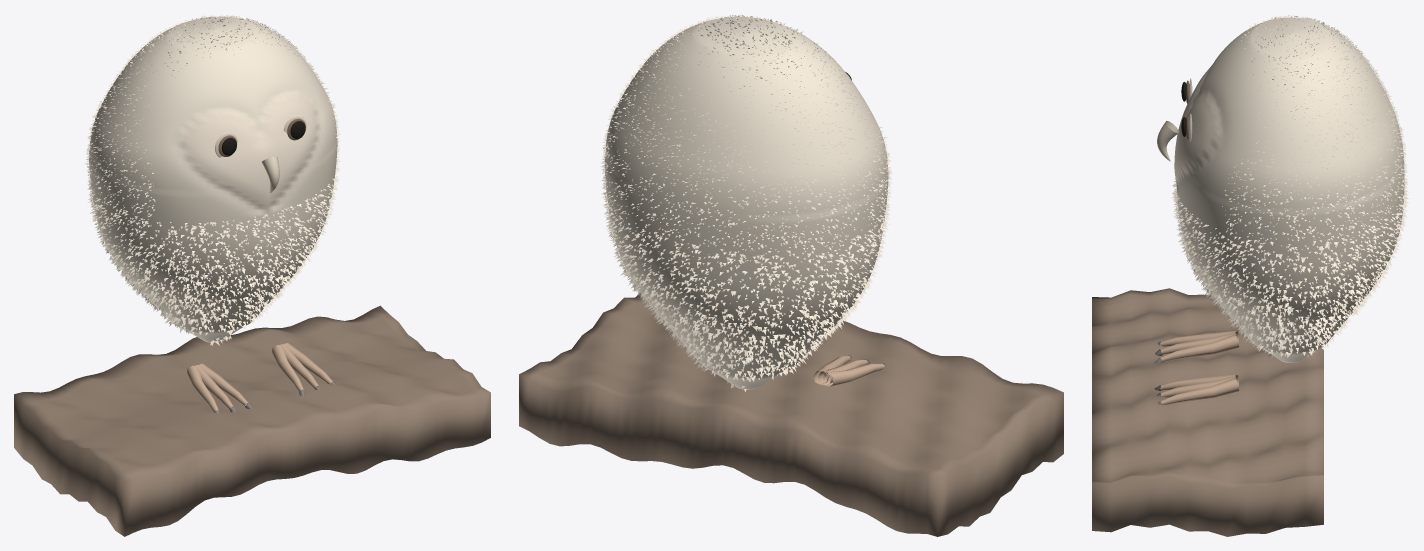
File: owl172_run82_organic_integrated_face_ART_PENDING.glb
3 renders of one model, left to right at view 1: azimuth 30°, elevation 25°; view 2: azimuth 150°, elevation 25°; view 3: azimuth 270°, elevation 25°, orthographic. The views are drawn at different scales.
Parts seen in each view (by area): view 1: solid eroded mature eucalyptus hollow ledge, one continuous organic juvenile loft, curved second-down filament batch 1, curved second-down filament batch 4, curved second-down filament batch 0, curved second-down filament batch 3, curved second-down filament batch 2; view 2: one continuous organic juvenile loft, solid eroded mature eucalyptus hollow ledge, curved second-down filament batch 3, curved second-down filament batch 1, curved second-down filament batch 4, curved second-down filament batch 0, curved second-down filament batch 2, short juvenile toe -1_0; view 3: one continuous organic juvenile loft, solid eroded mature eucalyptus hollow ledge, curved second-down filament batch 2, curved second-down filament batch 1, curved second-down filament batch 0, curved second-down filament batch 3, curved second-down filament batch 4, short juvenile toe -1_2, short juvenile toe 1_2, short juvenile toe 1_0, curved ivory hooked beak, short juvenile toe -1_0 (+2 smaller).
Part boxes in pixels (x1,y1,x2,y2): solid eroded mature eucalyptus hollow ledge: [14, 305, 490, 536]; one continuous organic juvenile loft: [89, 16, 337, 342]; curved second-down filament batch 1: [86, 14, 339, 345]; curved second-down filament batch 4: [86, 15, 340, 339]; curved second-down filament batch 0: [86, 15, 339, 345]; curved second-down filament batch 3: [86, 16, 340, 340]; curved second-down filament batch 2: [85, 14, 340, 340]; one continuous organic juvenile loft: [604, 17, 888, 389]; solid eroded mature eucalyptus hollow ledge: [519, 294, 1063, 536]; curved second-down filament batch 3: [601, 15, 891, 388]; curved second-down filament batch 1: [602, 14, 893, 388]; curved second-down filament batch 4: [602, 16, 892, 387]; curved second-down filament batch 0: [602, 15, 891, 391]; curved second-down filament batch 2: [600, 14, 892, 381]; short juvenile toe -1_0: [823, 363, 884, 386]; one continuous organic juvenile loft: [1174, 17, 1404, 362]; solid eroded mature eucalyptus hollow ledge: [1092, 288, 1323, 536]; curved second-down filament batch 2: [1173, 15, 1407, 355]; curved second-down filament batch 1: [1171, 16, 1409, 356]; curved second-down filament batch 0: [1173, 14, 1407, 358]; curved second-down filament batch 3: [1172, 16, 1408, 356]; curved second-down filament batch 4: [1172, 16, 1407, 356]; short juvenile toe -1_2: [1161, 334, 1239, 361]; short juvenile toe 1_2: [1161, 378, 1239, 404]; short juvenile toe 1_0: [1160, 374, 1239, 390]; curved ivory hooked beak: [1157, 121, 1178, 161]; short juvenile toe -1_0: [1160, 331, 1239, 346].
Bounding box in the file's own units: 2.24 × 2.34 × 1.6.
